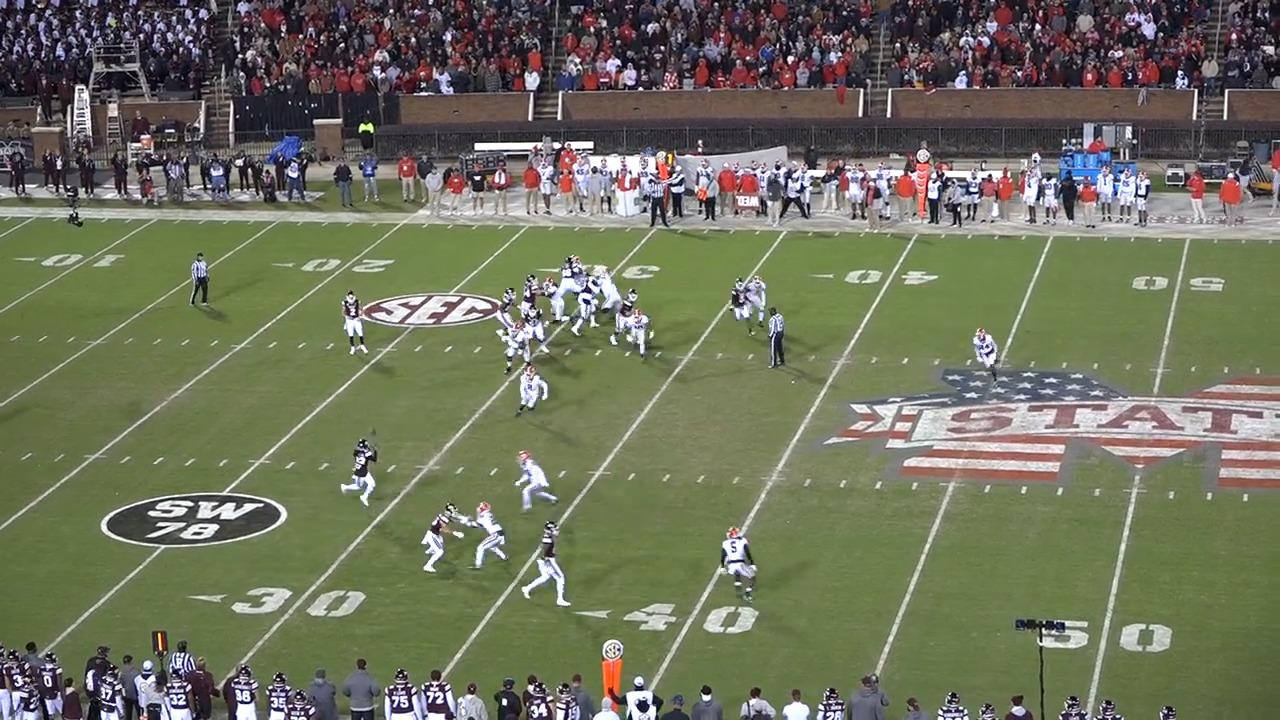player: (520, 519, 573, 607), (421, 505, 469, 578), (460, 501, 508, 572), (717, 523, 758, 601), (336, 436, 378, 508), (517, 449, 564, 513), (554, 256, 591, 320), (566, 276, 602, 340), (972, 328, 1003, 393), (344, 288, 373, 357), (607, 289, 638, 350), (729, 278, 761, 337), (591, 265, 622, 324), (517, 365, 550, 420), (504, 323, 535, 377), (522, 305, 551, 358), (739, 273, 766, 329), (626, 308, 653, 361), (542, 276, 569, 325), (494, 284, 518, 339), (519, 273, 541, 316), (571, 255, 591, 277)
ref: (765, 305, 789, 371), (185, 252, 211, 311), (642, 175, 668, 233), (167, 639, 197, 685)
